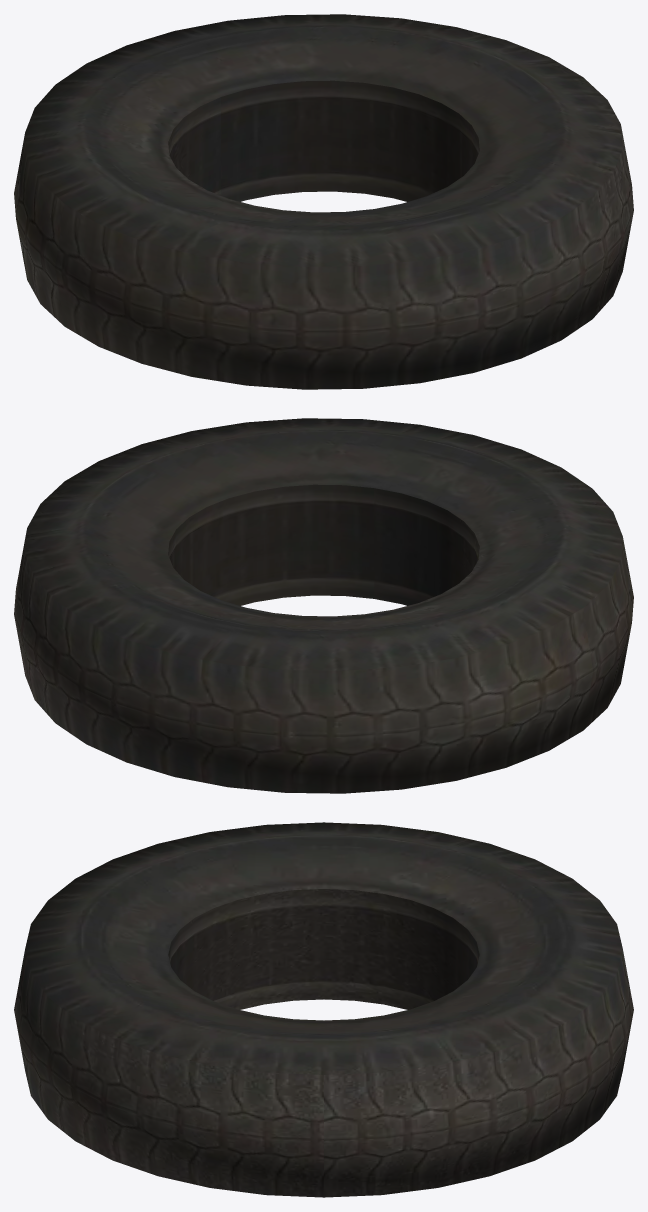
The model's file is tire_a.glb.
The picture shows the model from 3 angles, top to bottom: view 1: azimuth 30°, elevation 25°; view 2: azimuth 150°, elevation 25°; view 3: azimuth 270°, elevation 25°; orthographic projection.
Visible parts, largest first — view 1: tire_a; view 2: tire_a; view 3: tire_a.
Boxes of the visible parts, left/top/right/bottom form: tire_a: left=14, top=14, right=633, bottom=389; tire_a: left=14, top=418, right=633, bottom=793; tire_a: left=14, top=822, right=633, bottom=1197.
Bounding box in the file's own units: 1.56 × 0.405 × 1.56.
1 material, 1 textured.
